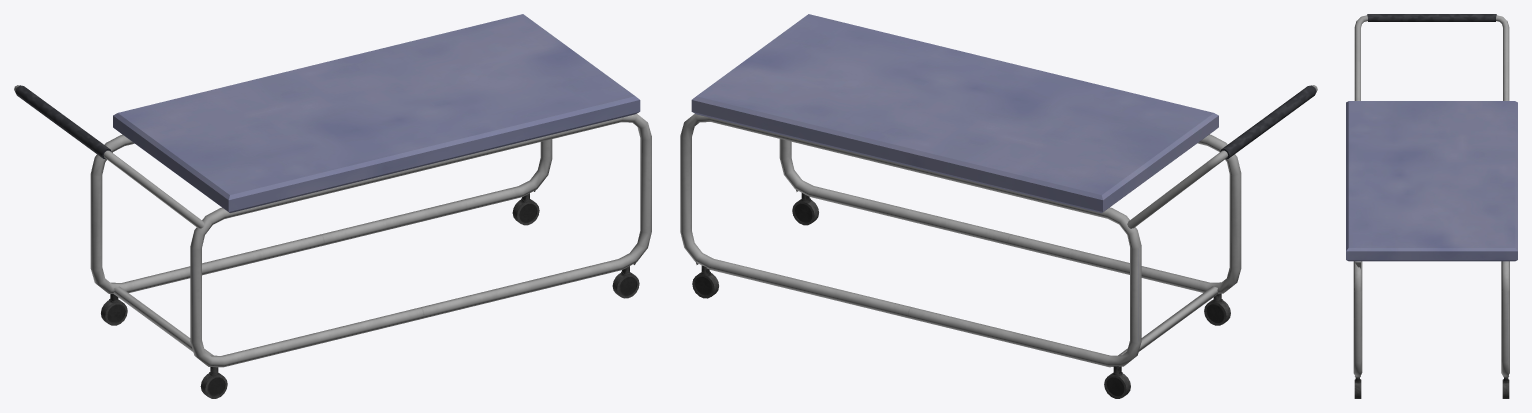
Rendered from gurney2.glb.
3 renders of one model, left to right at view 1: azimuth 30°, elevation 25°; view 2: azimuth 150°, elevation 25°; view 3: azimuth 270°, elevation 25°, orthographic. The views are drawn at different scales.
Parts seen in each view (by area): view 1: FoodTable-material; view 2: FoodTable-material; view 3: FoodTable-material.
Boxes of the visible parts, box(x1,y1,x2,y2) form: FoodTable-material: box(14, 14, 651, 398); FoodTable-material: box(680, 14, 1317, 398); FoodTable-material: box(1346, 14, 1517, 398).
Bounding box in the file's own units: 3.04 × 1.44 × 1.13.
Materials: 1 (1 with a texture image).
